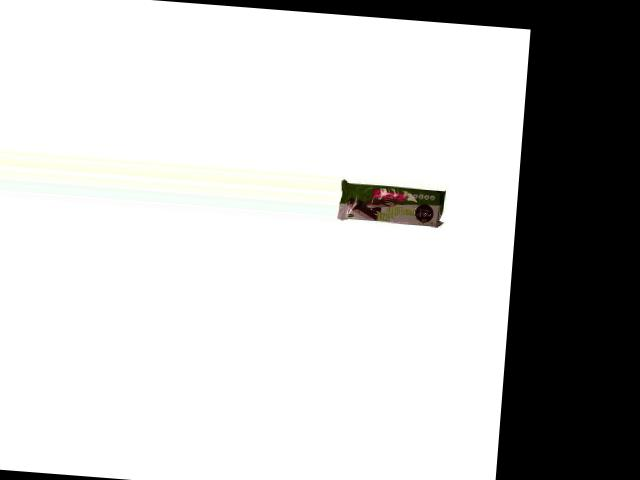chocolate: (337, 180, 449, 232)
